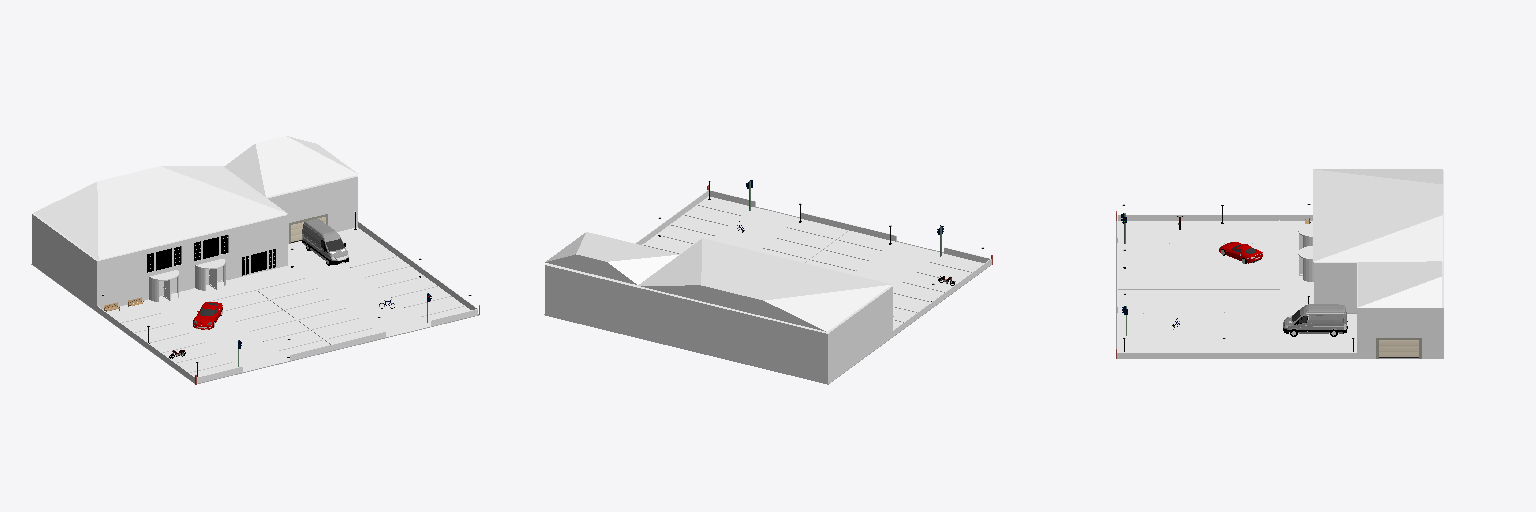
Rendered from Tienda.obj.
The picture shows the model from 3 angles: view 1: azimuth 30°, elevation 25°; view 2: azimuth 150°, elevation 25°; view 3: azimuth 270°, elevation 25°; orthographic projection.
Visible parts, largest first — view 1: room_51_292, PolyMesh_1_None_None_782, PolyMesh_1_None_None_783, wall_48_280, wall_5_28, wall_46_268, wall_49_286, wall_12_70, wall_3_16, 590, wall_14_82, wall_13_77 (+1 smaller); view 2: room_51_292, PolyMesh_1_None_None_782, wall_44_256, wall_1_4, PolyMesh_1_None_None_783, wall_49_286, wall_12_70, wall_13_77, wall_17_94, room_52_294; view 3: room_51_292, PolyMesh_1_None_None_782, PolyMesh_1_None_None_783, wall_45_262, wall_14_83, wall_2_10, wall_47_274, wall_13_76, 590, wall_4_22.
Part boxes in pixels (x1,y1,x2,y2): room_51_292: (105, 227, 470, 376); PolyMesh_1_None_None_782: (34, 166, 287, 259); PolyMesh_1_None_None_783: (224, 136, 358, 196); wall_48_280: (97, 215, 287, 286); wall_5_28: (97, 241, 287, 309); wall_46_268: (268, 177, 357, 218); wall_49_286: (32, 214, 96, 286); wall_12_70: (32, 242, 96, 311); wall_3_16: (288, 203, 357, 243); 590: (302, 218, 348, 260); wall_14_82: (358, 222, 476, 309); wall_13_77: (97, 306, 194, 382); room_51_292: (643, 196, 983, 329); PolyMesh_1_None_None_782: (638, 238, 891, 331); wall_44_256: (545, 265, 827, 359); wall_1_4: (545, 291, 827, 384); PolyMesh_1_None_None_783: (545, 232, 679, 284); wall_49_286: (828, 287, 892, 358); wall_12_70: (828, 313, 892, 382); wall_13_77: (893, 259, 991, 336); wall_17_94: (801, 213, 896, 241); room_52_294: (546, 263, 891, 333); room_51_292: (1117, 221, 1356, 351); PolyMesh_1_None_None_782: (1313, 169, 1442, 261); PolyMesh_1_None_None_783: (1358, 261, 1441, 307); wall_45_262: (1357, 308, 1443, 333); wall_14_83: (1117, 353, 1357, 358); wall_2_10: (1357, 334, 1443, 358); wall_47_274: (1314, 263, 1356, 288); wall_13_76: (1118, 215, 1312, 220); 590: (1283, 304, 1346, 333); wall_4_22: (1314, 289, 1356, 312).
Size of the model in its own units: 3018 by 684 by 3014.